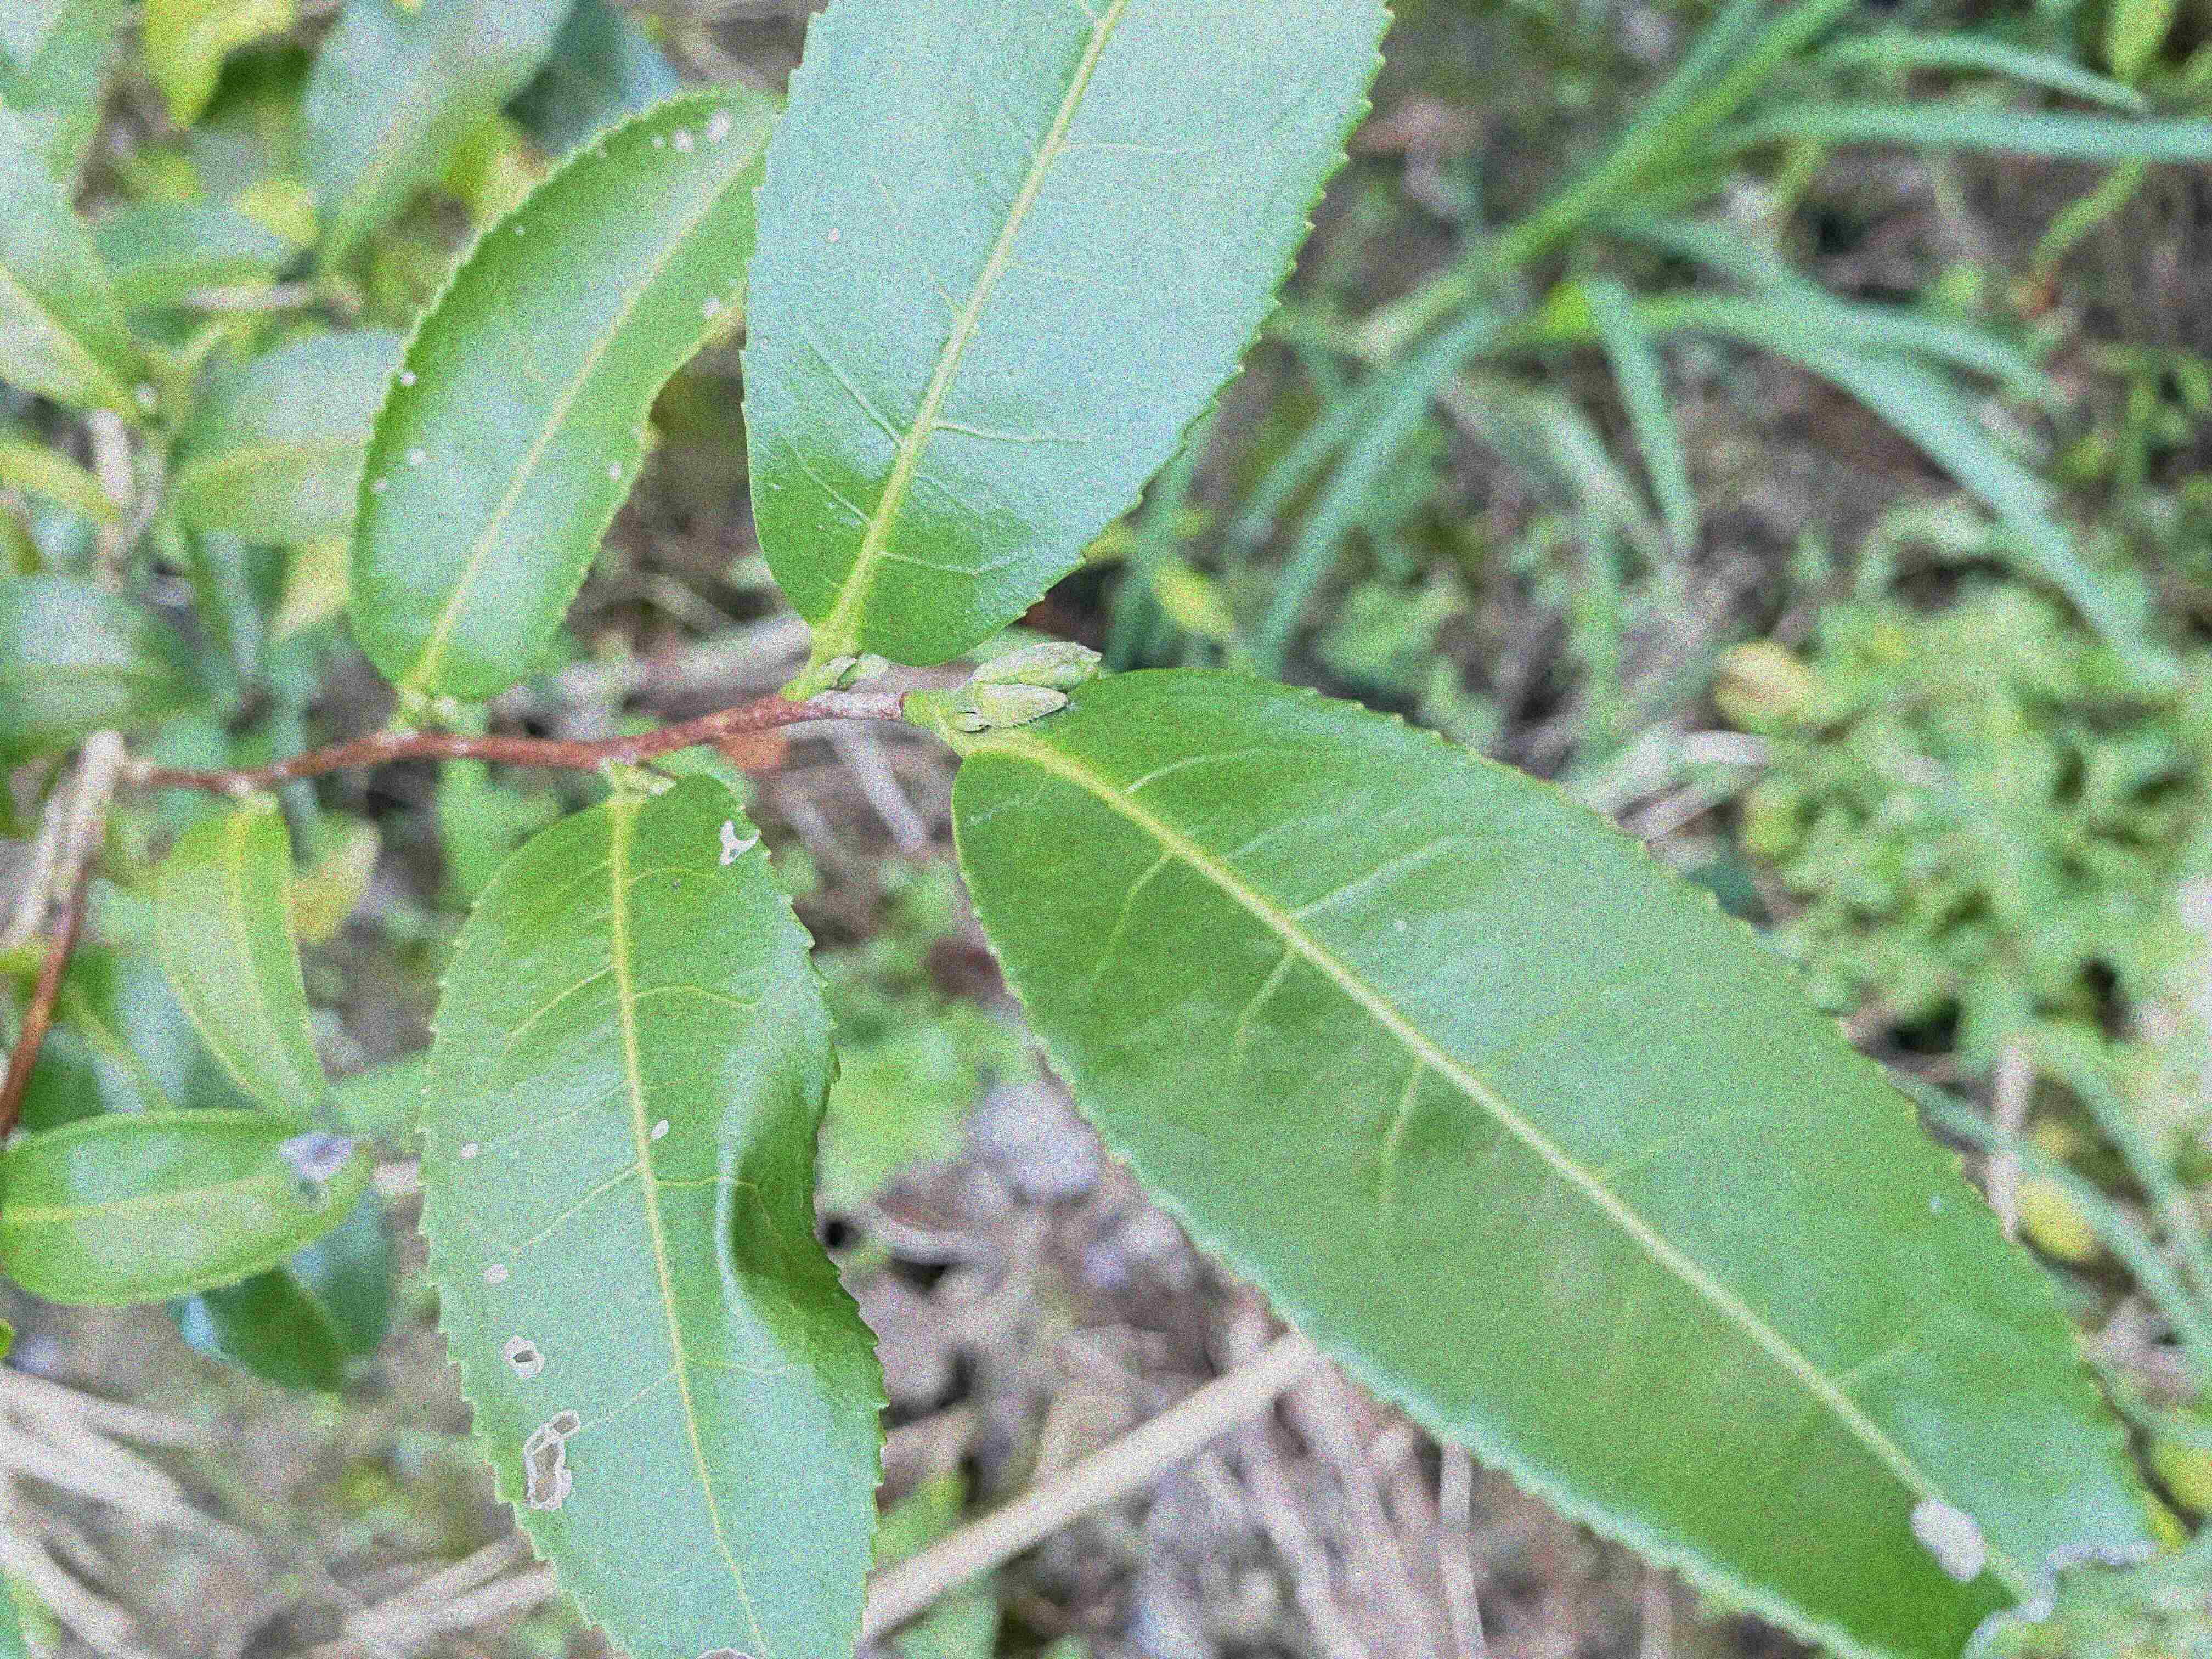chihuo_high: (415, 767, 892, 1657)
chihuo_low: (953, 662, 2170, 1654)
healthy: (744, 3, 1407, 666)
tanju_low: (347, 91, 779, 699)
